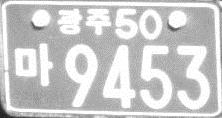0: (140, 7, 162, 41)
3: (174, 43, 210, 110)
4: (103, 44, 136, 112)
5: (139, 44, 173, 110), (114, 6, 139, 40)
9: (64, 43, 98, 107)
광주_O: (56, 6, 112, 36)
마: (14, 41, 53, 89)
